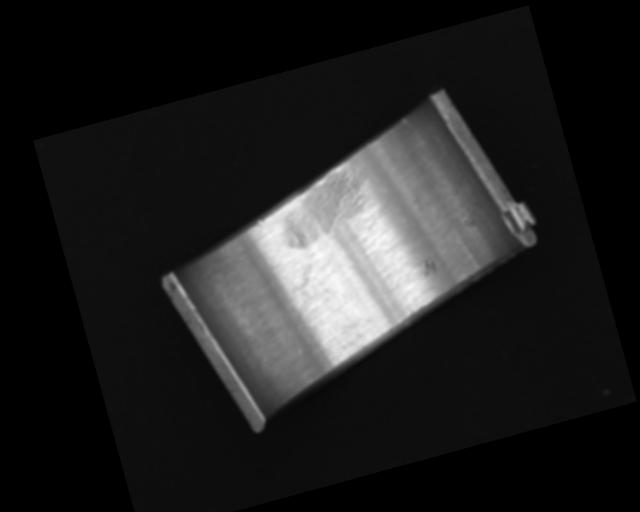blot: (279, 257, 333, 315)
bruise: (418, 257, 439, 278), (253, 218, 266, 228)
nick: (402, 115, 412, 128)
scratch: (271, 160, 383, 254)
